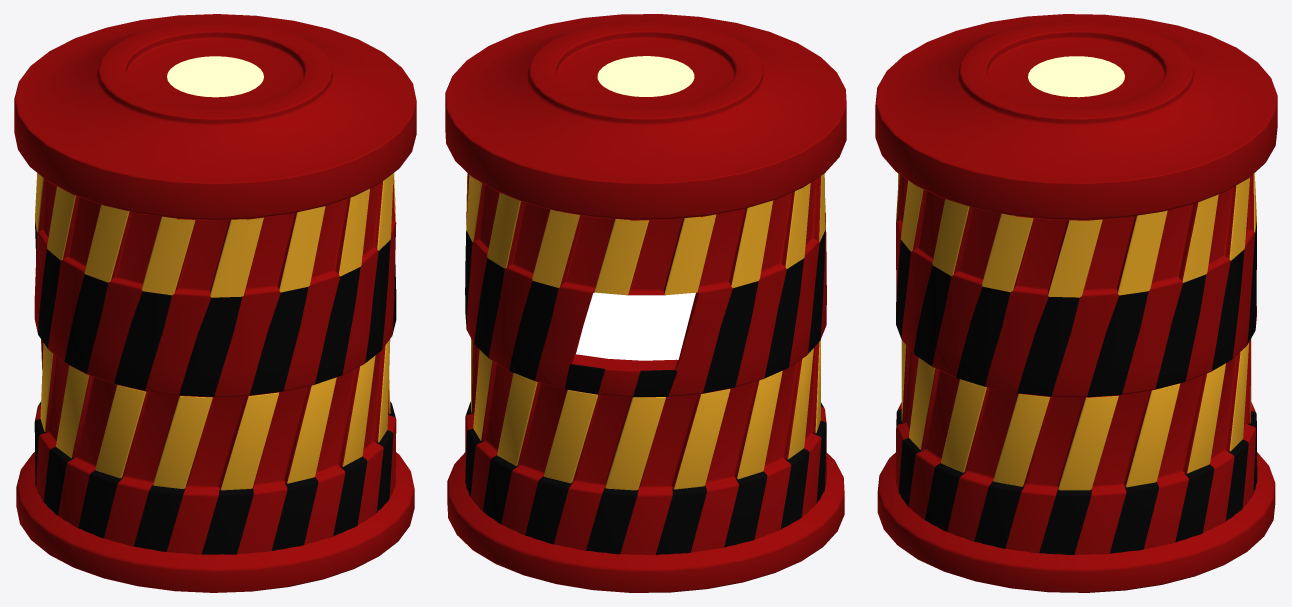
The model's file is Explosives_Barrel.fbx.
3 views of the same model, side by side, from view 1: azimuth 30°, elevation 25°; view 2: azimuth 150°, elevation 25°; view 3: azimuth 270°, elevation 25° (orthographic).
Visible parts, largest first — view 1: Cube.002; view 2: Cube.002; view 3: Cube.002.
Part boxes in pixels (left/top/right/bottom): Cube.002: left=14, top=14, right=416, bottom=592; Cube.002: left=445, top=14, right=846, bottom=592; Cube.002: left=875, top=14, right=1277, bottom=592.
Bounding box in the file's own units: 85.04 × 103 × 85.04.
